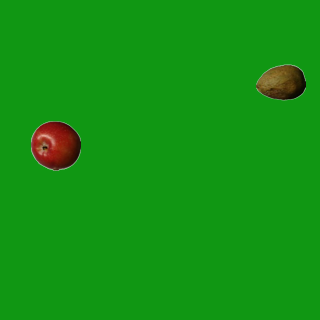Apple Braeburn: (30, 120, 80, 170)
Papaya: (255, 57, 305, 107)
